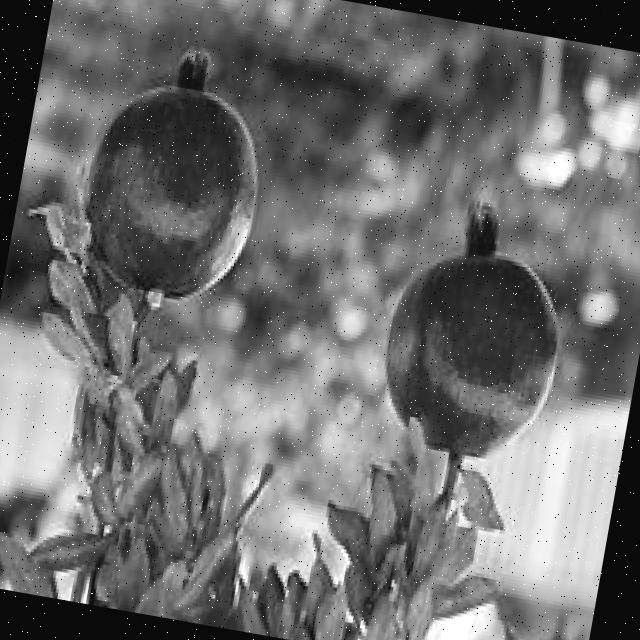Pomegranate: (64, 22, 284, 316), (366, 184, 584, 470)
